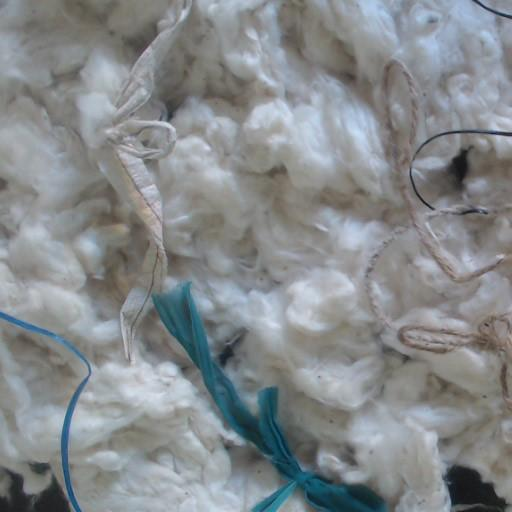cloth: (153, 282, 386, 511), (96, 0, 191, 362)
conveyor belt: (0, 470, 69, 511), (447, 465, 505, 511)
cotton: (137, 0, 511, 511), (0, 322, 81, 510)
jute: (365, 58, 507, 327), (392, 311, 511, 407)
thread: (0, 311, 91, 511), (412, 129, 511, 162), (409, 166, 432, 208), (472, 0, 511, 19)
